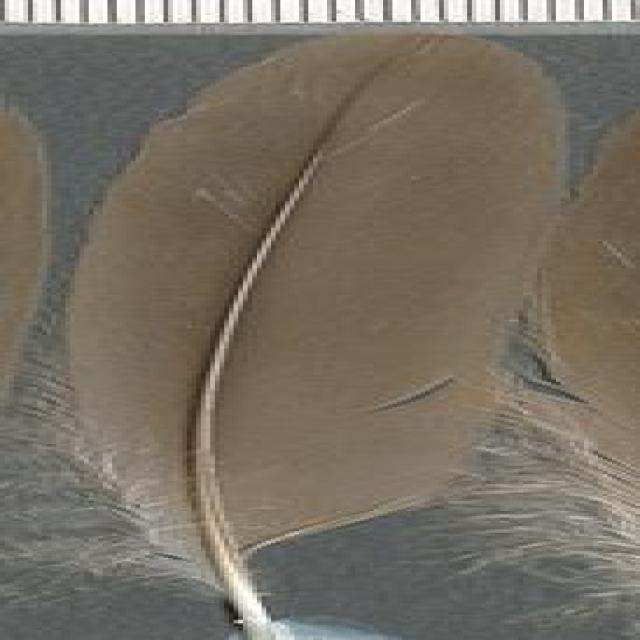feather: (42, 32, 575, 640)
